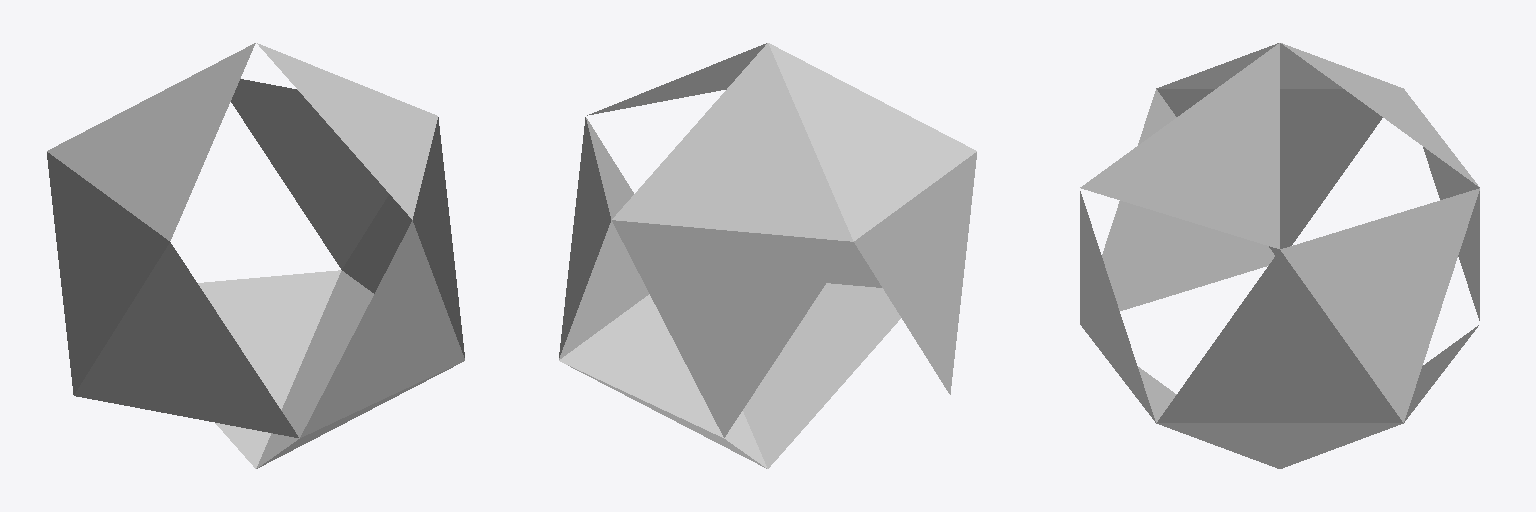
File: icorandom2.obj
3 renders of one model, left to right at view 1: azimuth 30°, elevation 25°; view 2: azimuth 150°, elevation 25°; view 3: azimuth 270°, elevation 25°, orthographic.
Parts seen in each view (by area): view 1: Icosphere; view 2: Icosphere; view 3: Icosphere.
Part boxes in pixels (left/top/right/bottom): Icosphere: left=47, top=43, right=464, bottom=468; Icosphere: left=559, top=43, right=976, bottom=468; Icosphere: left=1080, top=43, right=1479, bottom=468.
Size of the model in its own units: 1.79 by 2 by 1.7.